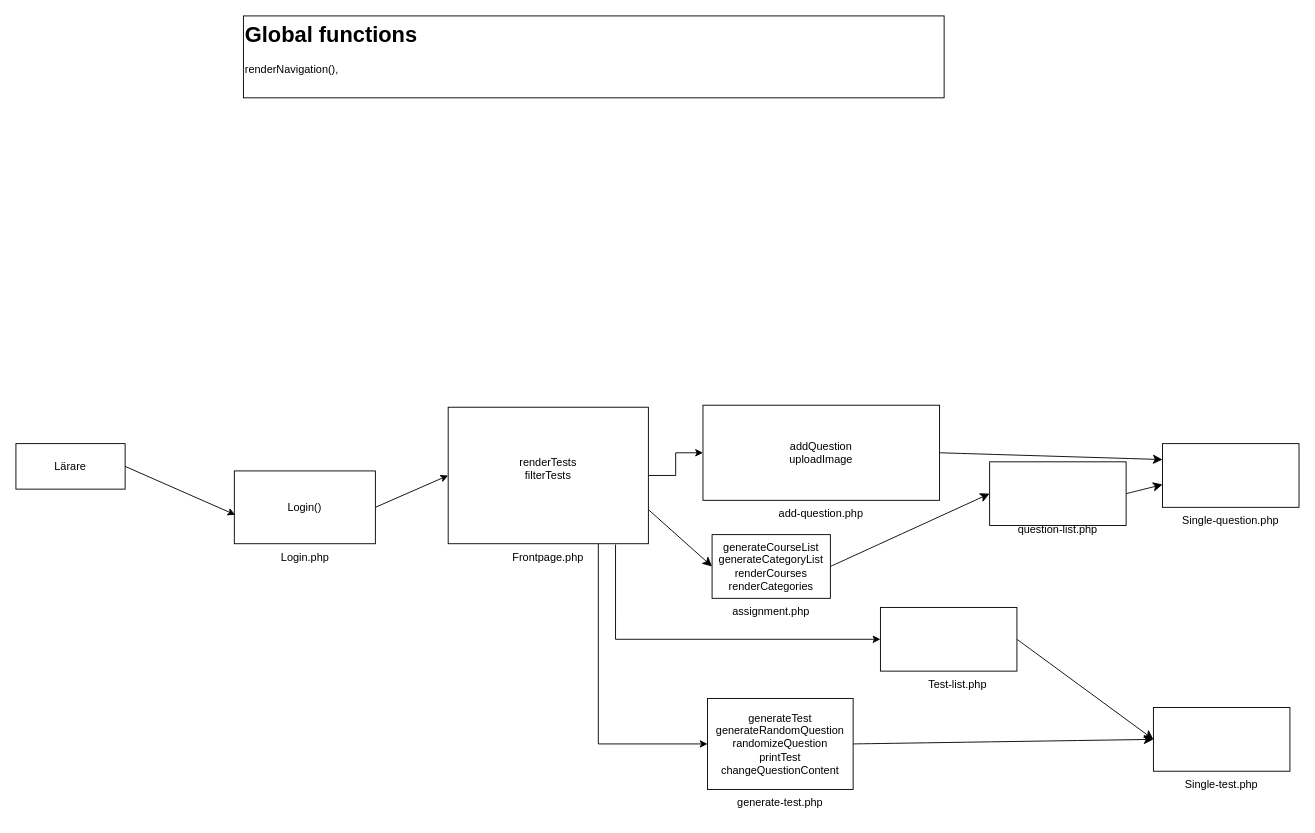
The diagram is 1315 pixels wide and 833 high, and some of its shapes have lost their labels. The shapes that lost their labels are listed below. From the top down, each one's centre as x and y in pixels, then its label:
At (x=1057, y=493): "generateQuestionList filterQuestions deleteQuestion".
At (x=1230, y=475): "renderSingleQuestion changeQuestionContent".
At (x=948, y=639): "generateTestList filterTests renderTests".
At (x=1221, y=739): "renderSingleTest renderTestFacit printTest".
